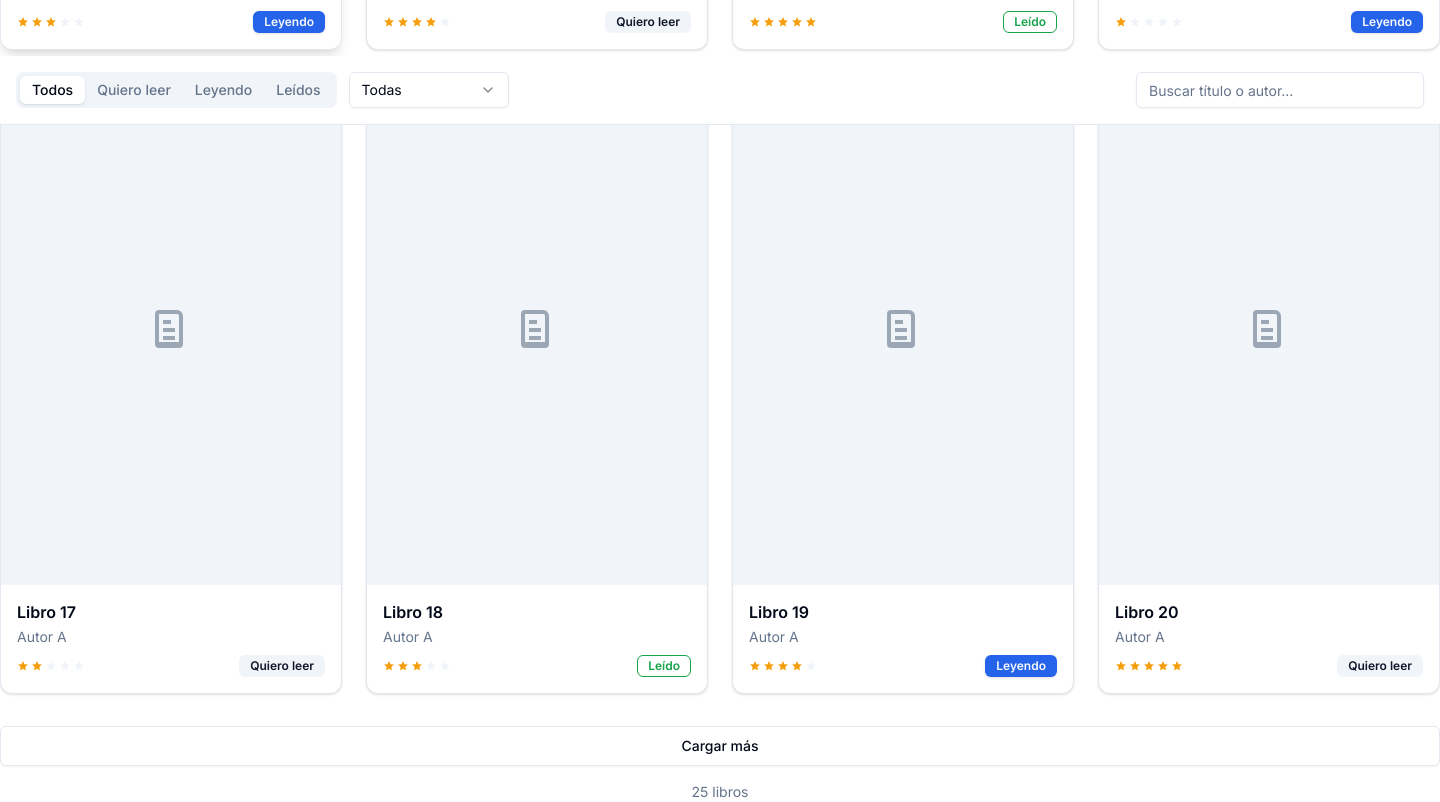
Test: LibraryGrid › loads more and appends items, hiding the button when finished
The image size is (1440, 802).
(page scrolled)
Click the button with test id "load-more".
click(720, 746)  # box x1=0 y1=726 x2=1439 y2=766
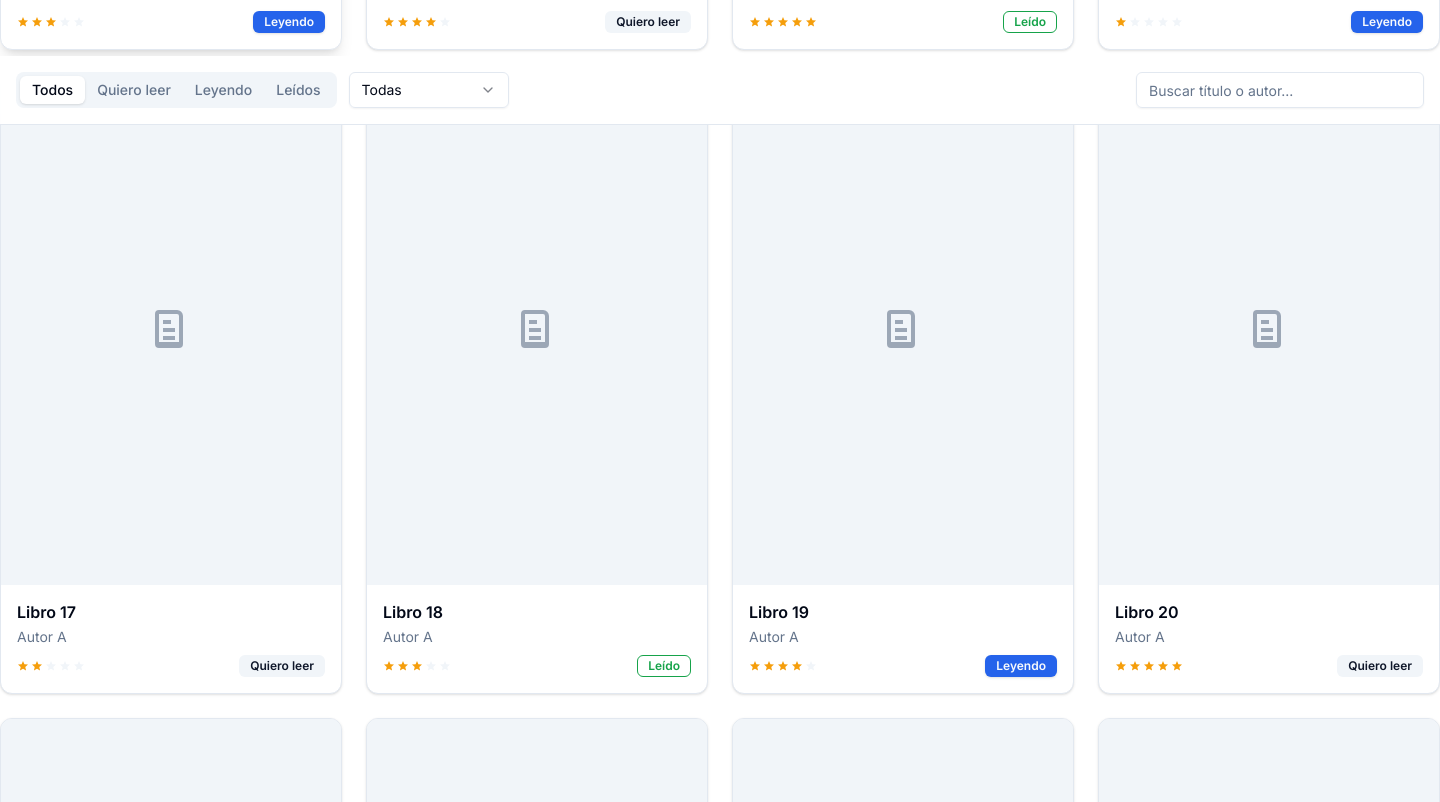
Check: the button with test id "load-more" is gone
